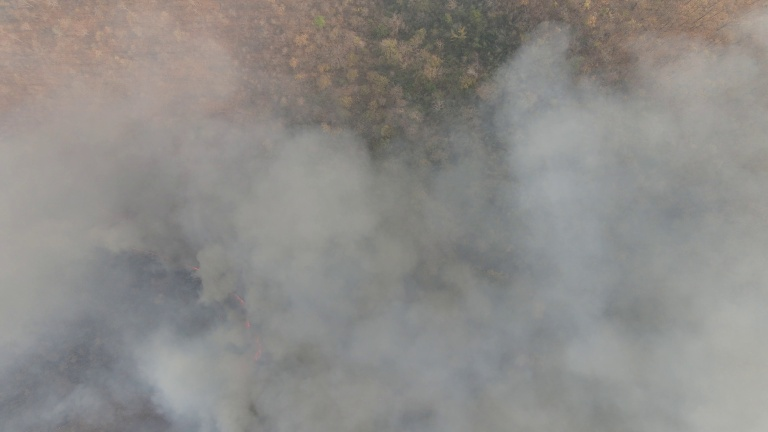fire: (233, 294, 268, 388), (189, 257, 220, 288)
smoke: (37, 81, 768, 432)
